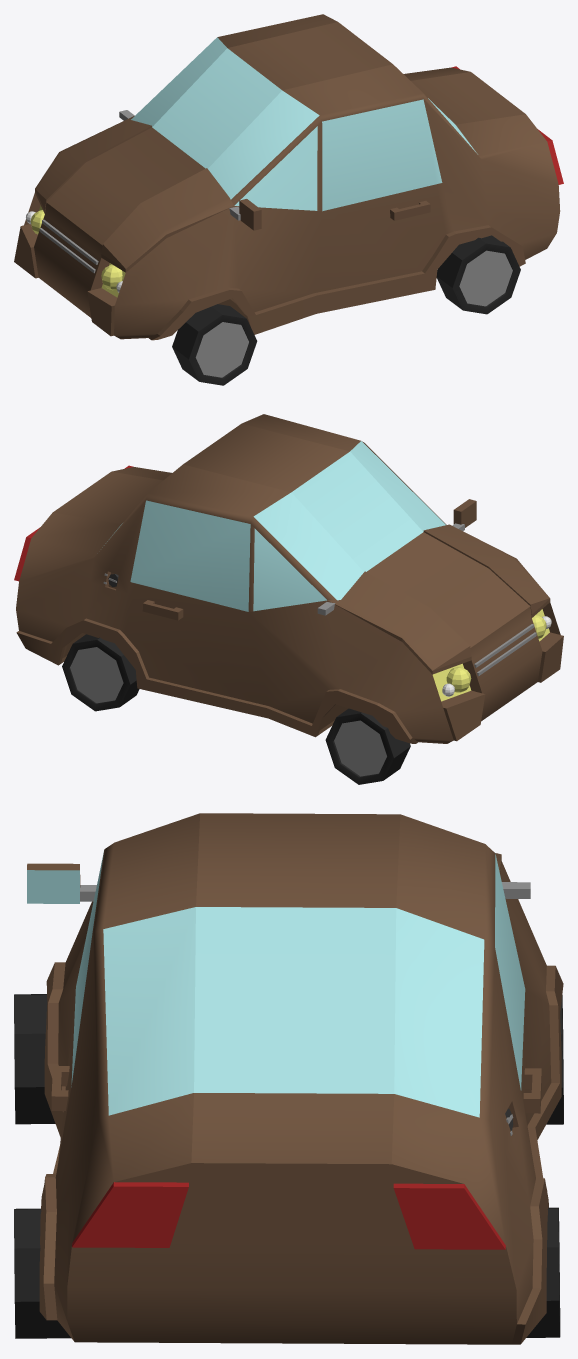
File: CarFixed.fbx
The picture shows the model from 3 angles, top to bottom: view 1: azimuth 30°, elevation 25°; view 2: azimuth 150°, elevation 25°; view 3: azimuth 270°, elevation 25°; orthographic projection. The views are drawn at different scales.
Parts seen in each view (by area): view 1: polySurface28; view 2: polySurface28; view 3: polySurface28.
Part boxes in pixels (box(x1,y1,x2,y2)): polySurface28: box(14, 14, 563, 385); polySurface28: box(14, 414, 563, 784); polySurface28: box(14, 813, 563, 1344).
Bounding box in the file's own units: 356 × 177 × 216.
